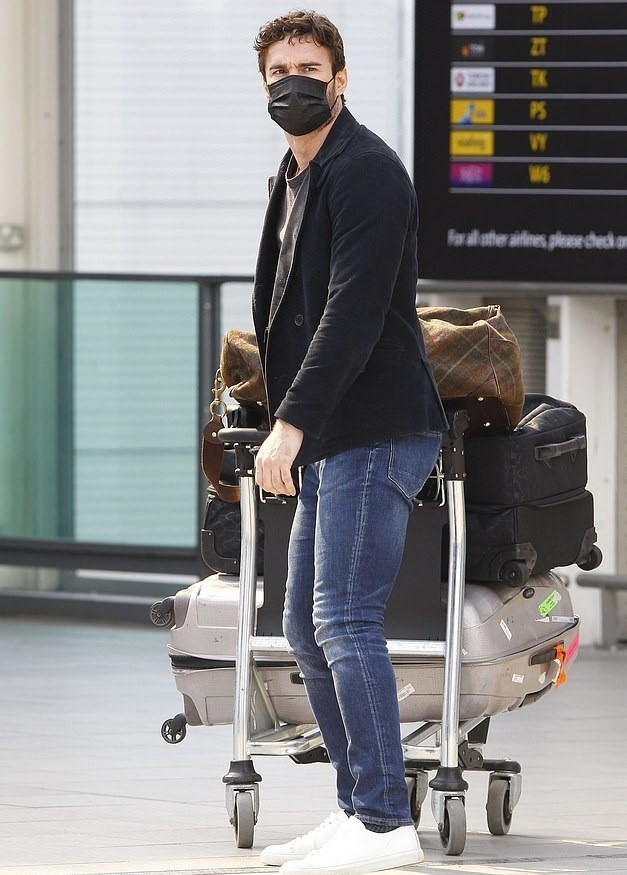face_with_mask: (249, 5, 356, 134)
